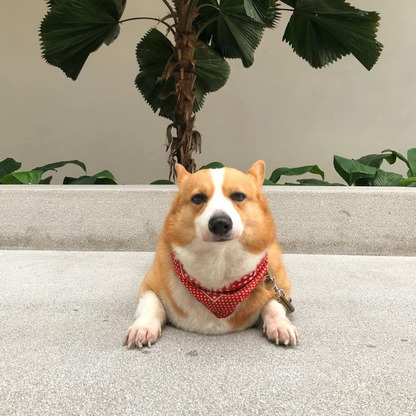Corgi: (130, 142, 304, 368)
